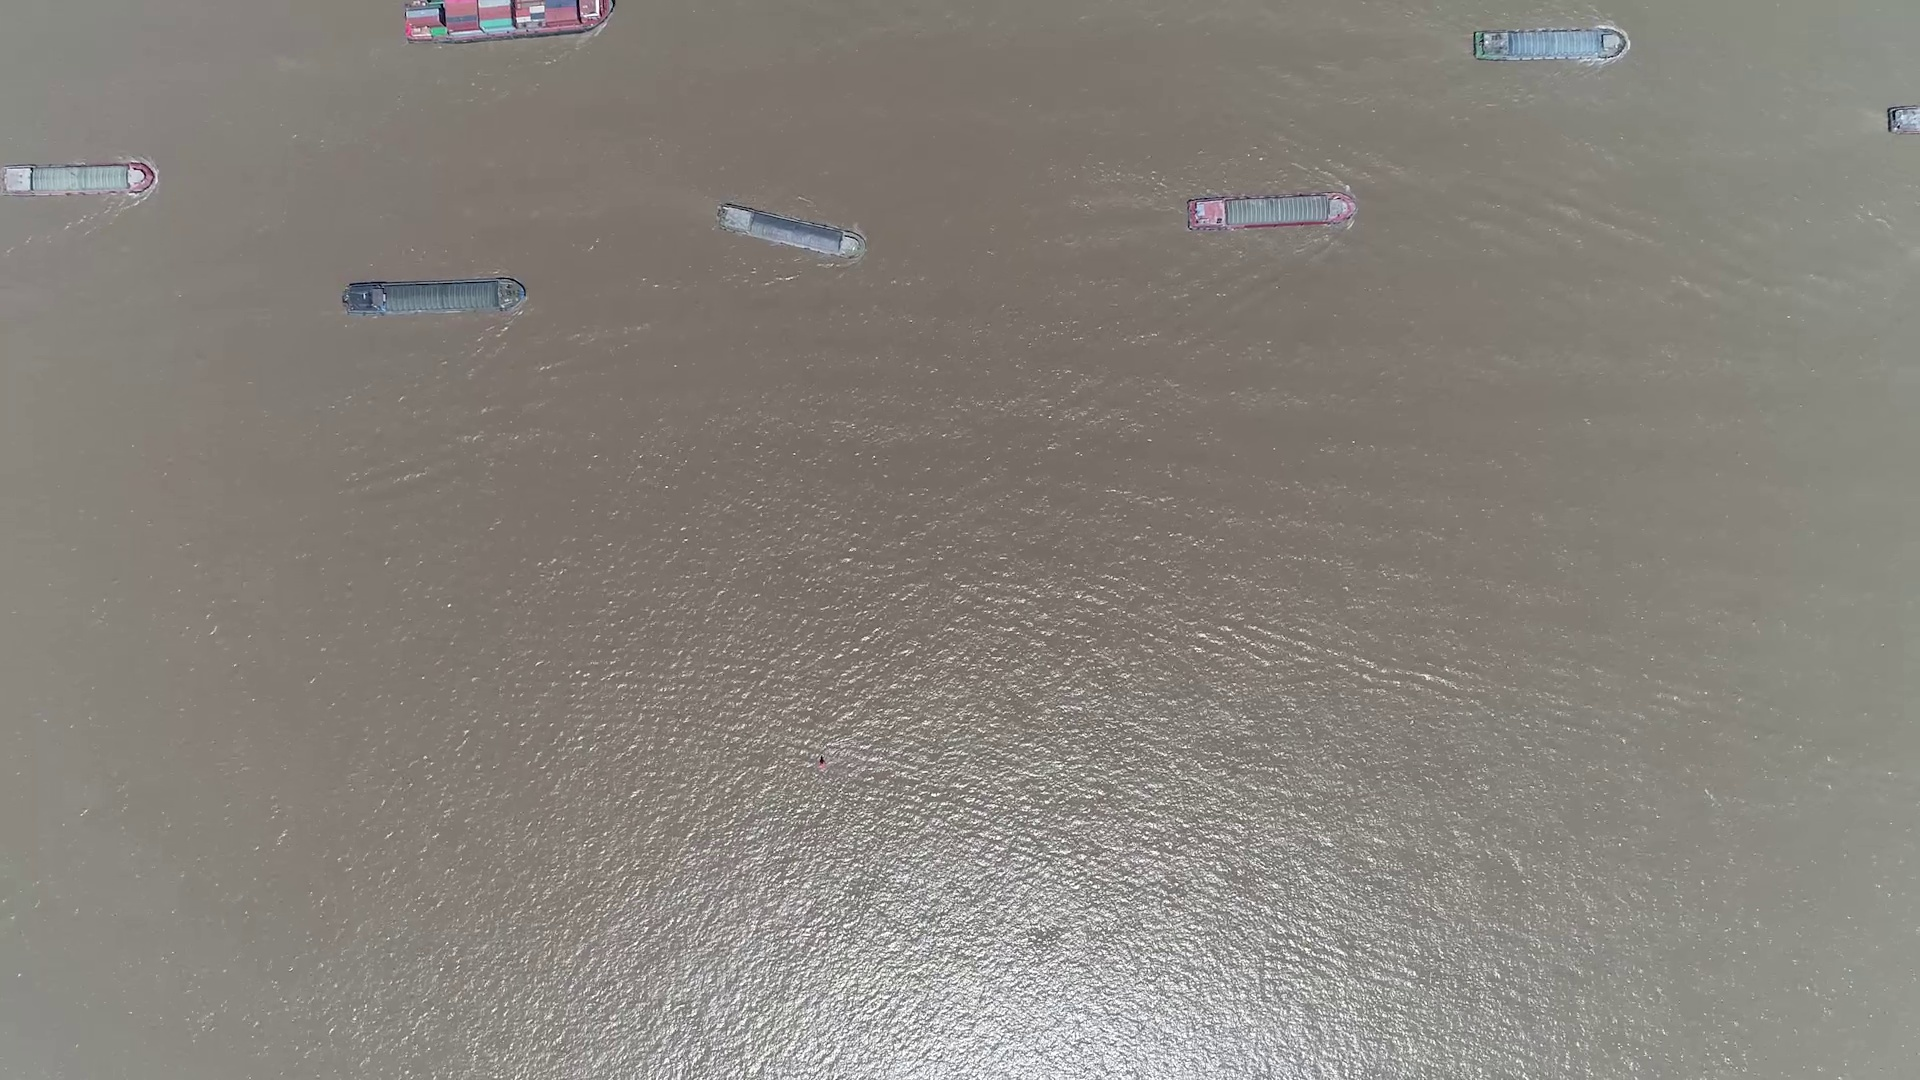ship: (402, 0, 615, 42), (716, 204, 865, 258), (340, 280, 524, 316), (1189, 193, 1358, 229), (1472, 26, 1629, 63), (1, 164, 154, 195)
